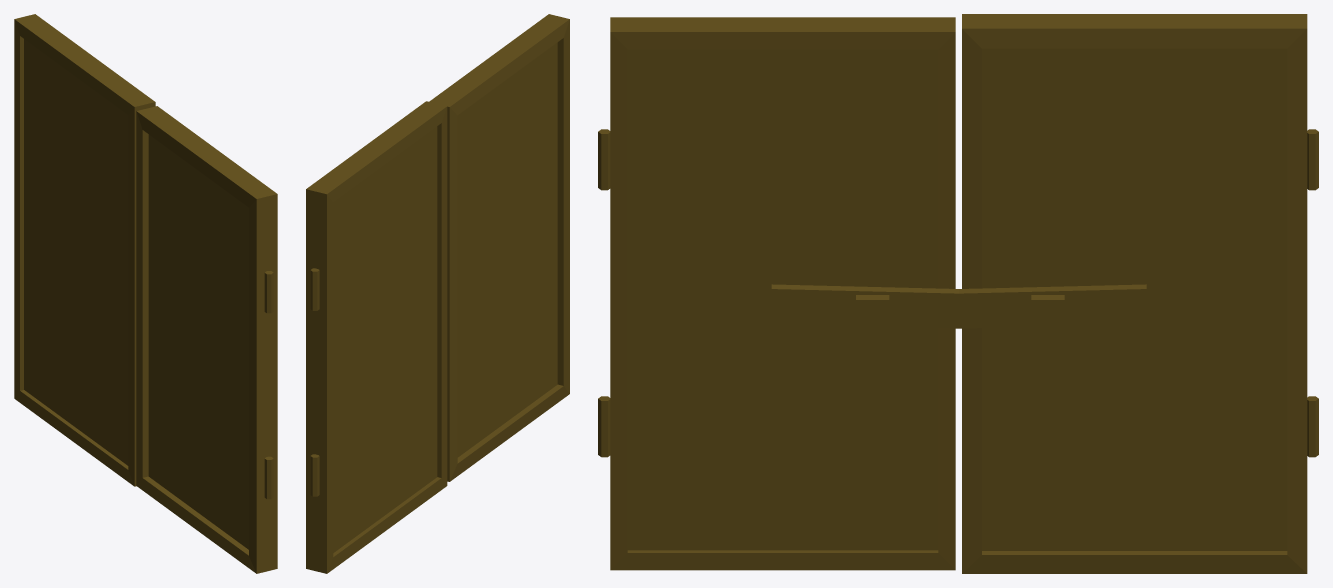
Rendered from door.fbx.
The picture shows the model from 3 angles, left to right: view 1: azimuth 30°, elevation 25°; view 2: azimuth 150°, elevation 25°; view 3: azimuth 270°, elevation 25°; orthographic projection. The views are drawn at different scales.
Visible parts, largest first — view 1: _gltfNode_0; view 2: _gltfNode_0; view 3: _gltfNode_0.
Boxes of the visible parts, x1=… form: _gltfNode_0: x1=14, y1=14, x2=277, y2=573; _gltfNode_0: x1=306, y1=14, x2=569, y2=573; _gltfNode_0: x1=598, y1=14, x2=1318, y2=573.
Size of the model in its own units: 0.2183 by 2 by 2.4.
